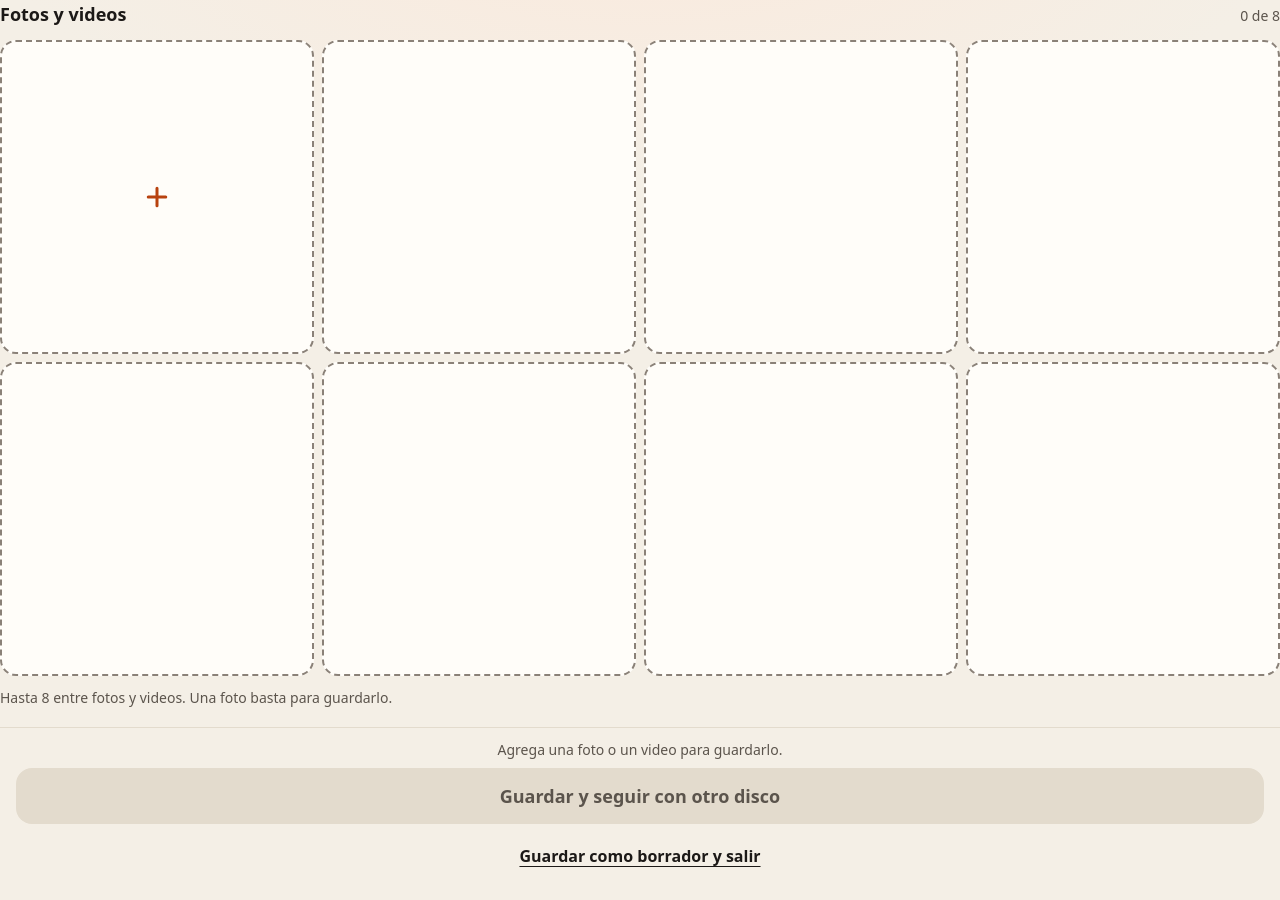
Scenario: NewRecordForm › the photo boxes › asks camera, video or gallery when a box is tapped
What coordinates should you click on to do the following:
click the 1st button named "Agregar foto o video"
I would click on:
 (157, 197)
Its box is [0,40,314,354].
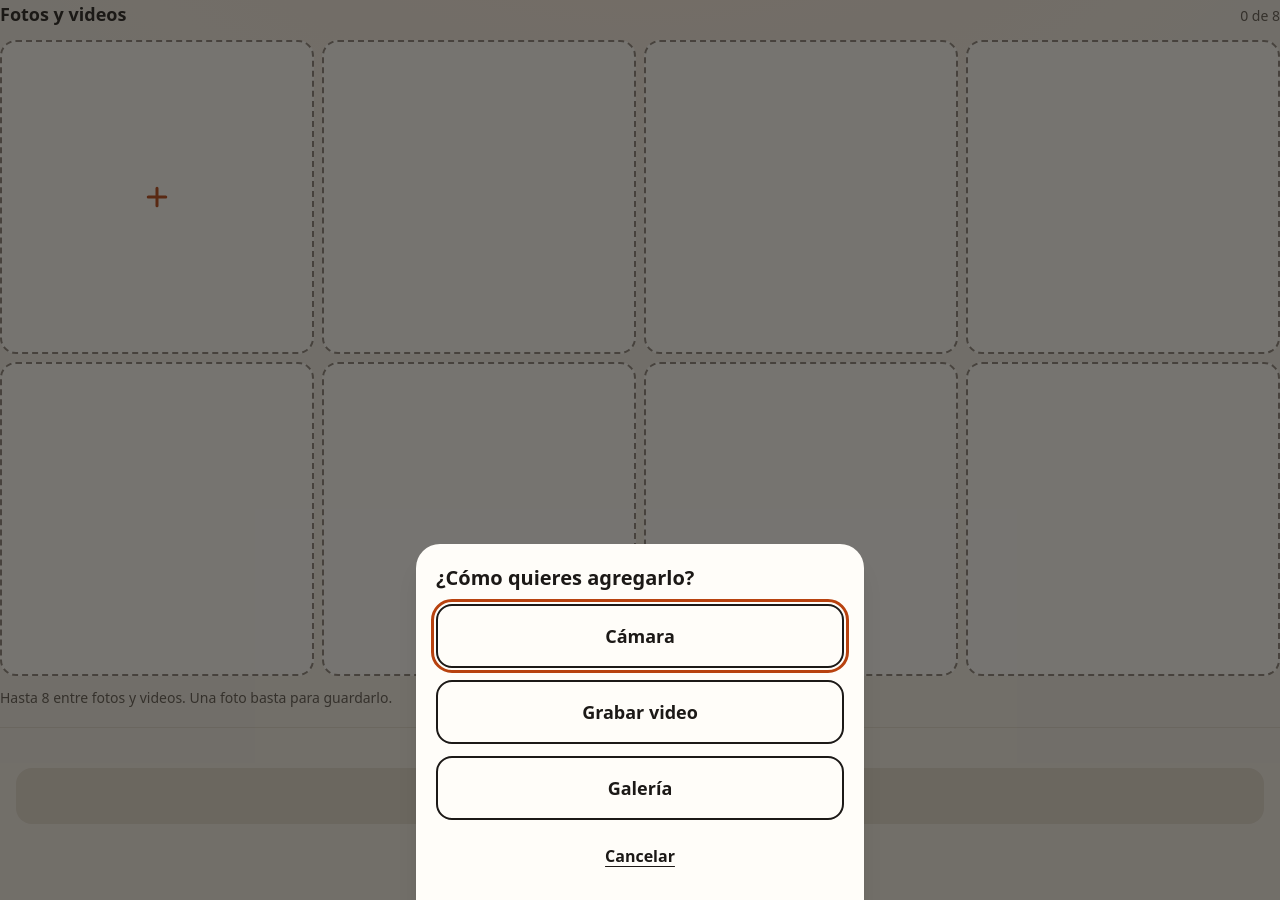
expect the dialog "¿Cómo quieres agregarlo?" is shown: met, box [416,544,864,899]
expect the button "Cámara" is shown: met, box [436,604,844,668]
expect the button "Grabar video" is shown: met, box [436,680,844,744]
